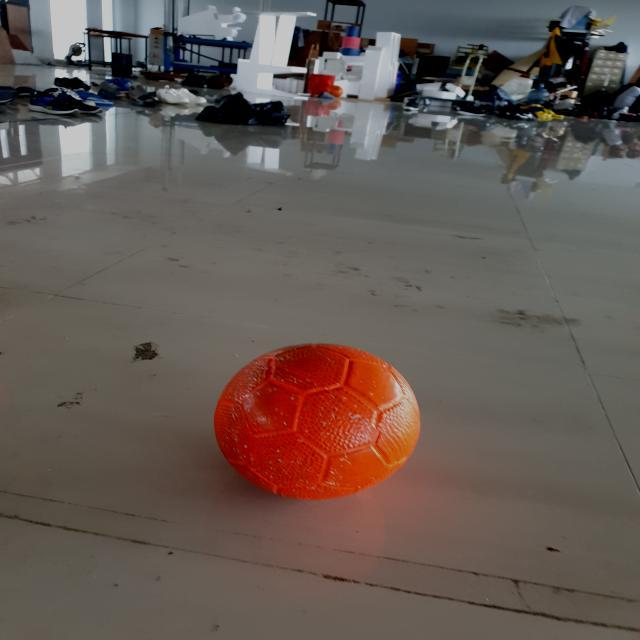bola: (205, 332, 431, 508)
